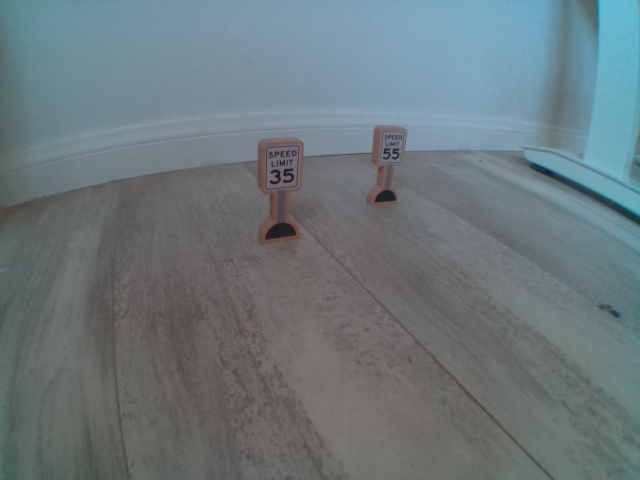Speed Limit 35: (259, 142, 302, 190)
Speed Limit 55: (374, 128, 406, 167)
